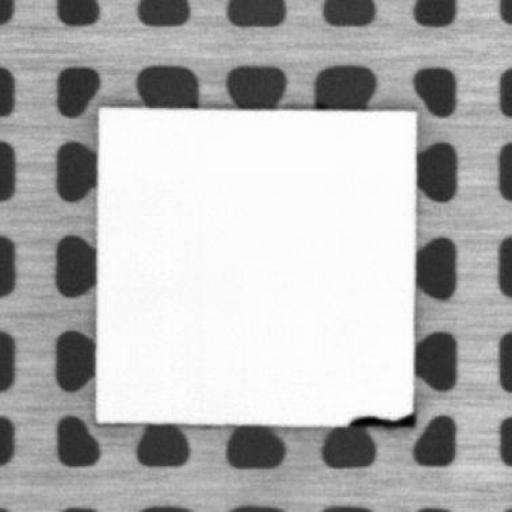DIE_BROKEN: (344, 410, 419, 428)
